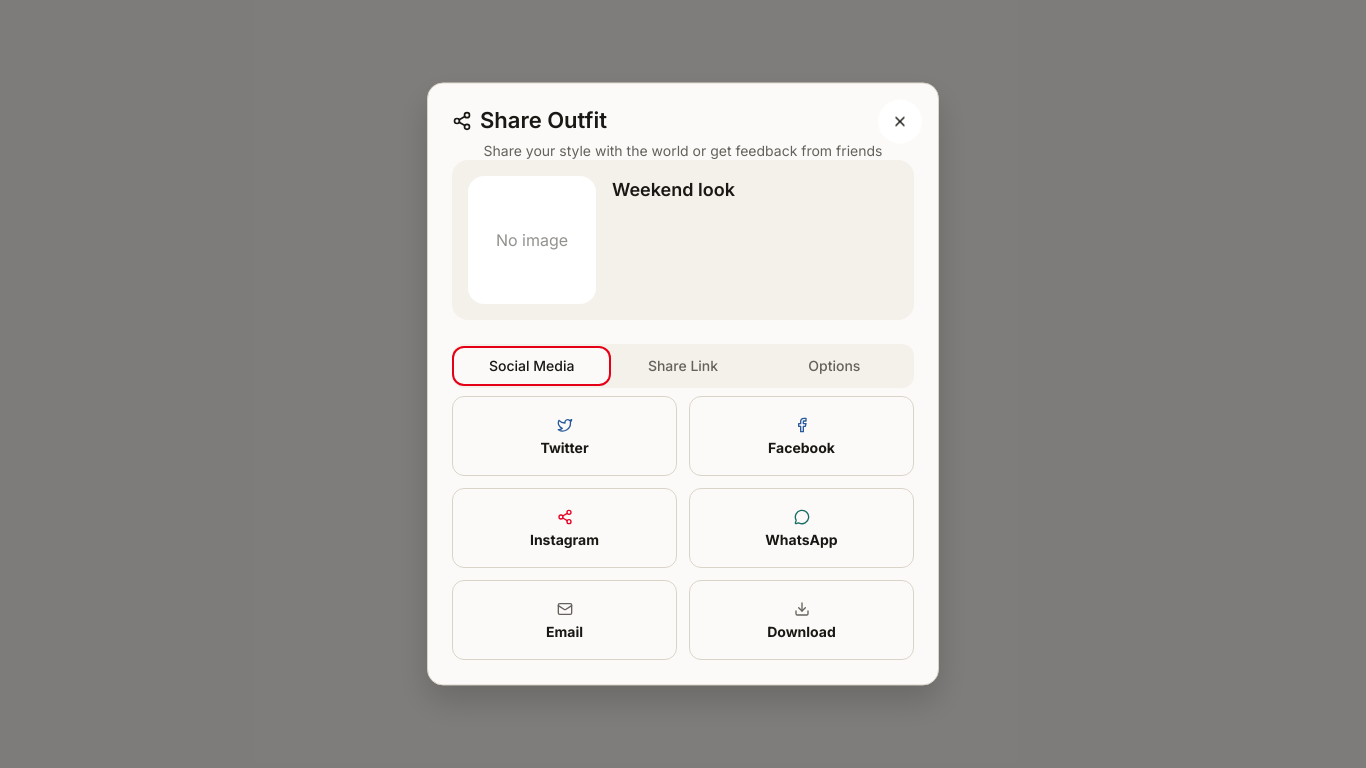
Test case: ShareOutfitDialog mobile layout (<xs, no matchMedia) › keeps the tabs functional at mobile width
Click the tab "Options" at (834, 366), box [759,350,910,382]
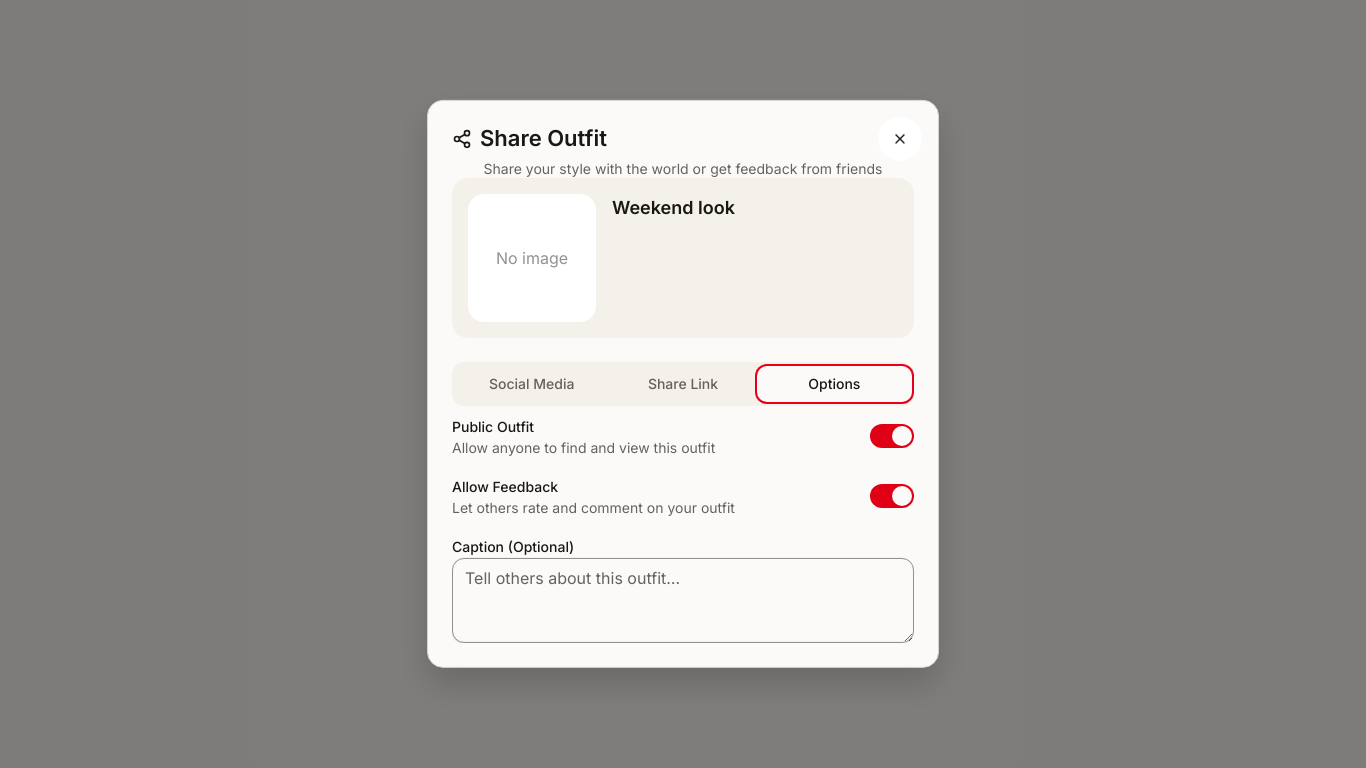
Expected: the text "Allow Feedback" is shown, [452,478,558,495]
